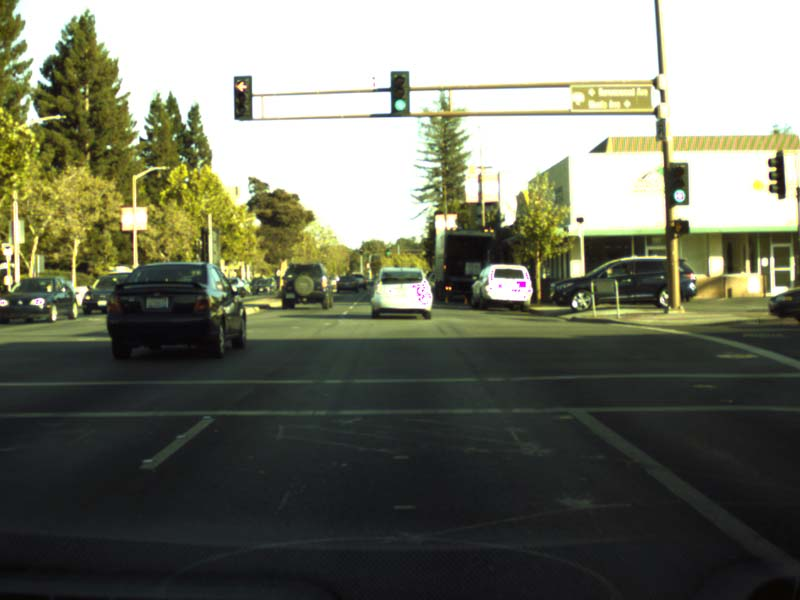Green: (390, 70, 410, 115), (671, 166, 687, 204)
Red: (233, 76, 251, 119)
